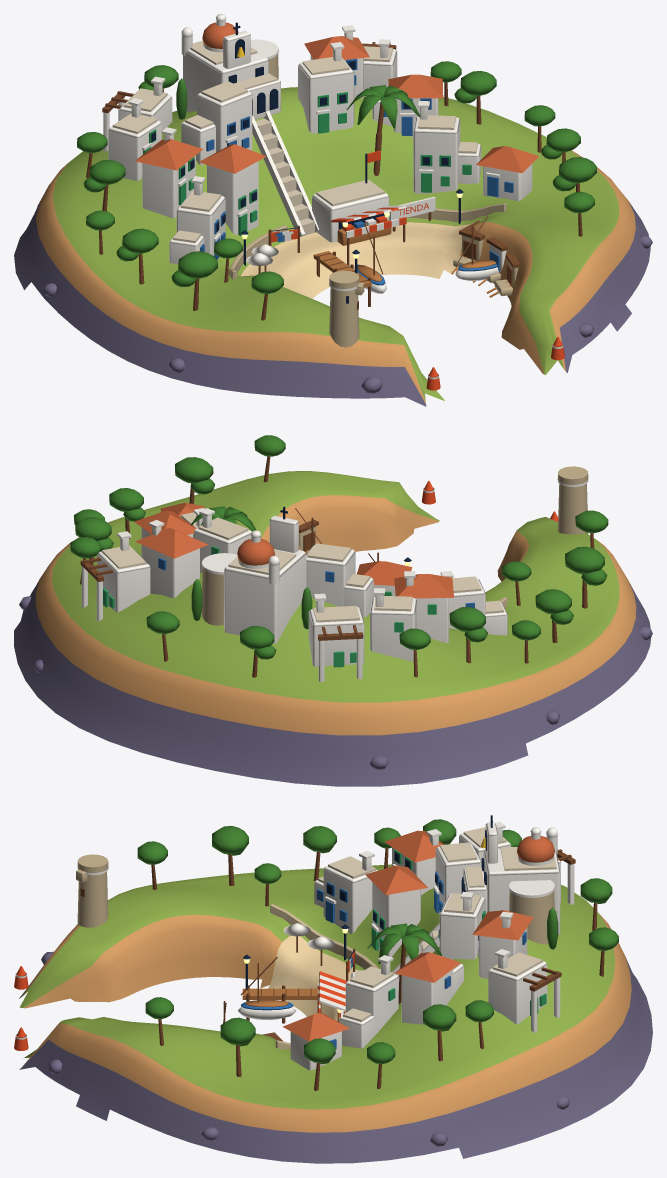
The model's file is tienda.glb.
3 renders of one model, top to bottom at view 1: azimuth 30°, elevation 25°; view 2: azimuth 150°, elevation 25°; view 3: azimuth 270°, elevation 25°, orthographic.
Parts seen in each view (by area): view 1: static_tienda; view 2: static_tienda; view 3: static_tienda.
Part boxes in pixels (bbox=[...]): static_tienda: bbox=[14, 14, 652, 406]; static_tienda: bbox=[14, 435, 652, 786]; static_tienda: bbox=[14, 815, 652, 1163].
Size of the model in its own units: 1.82 by 0.6534 by 1.84.
